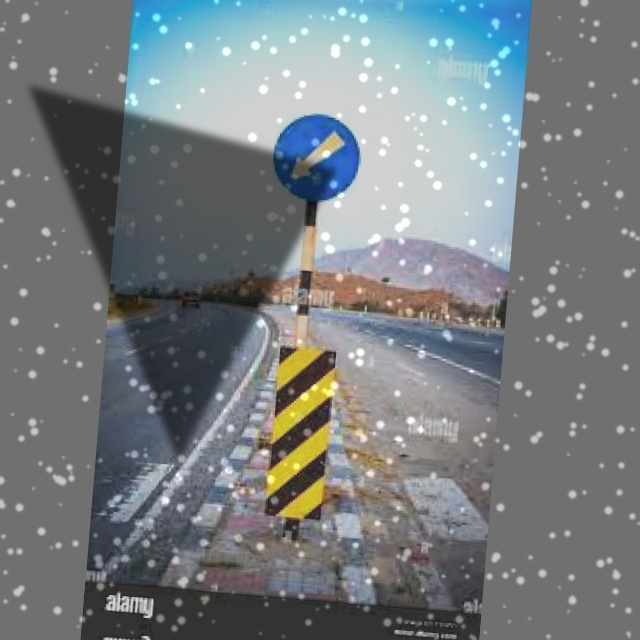Compulsory_Keep_Left: (266, 108, 375, 210)
